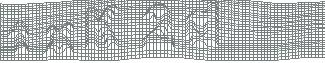2: (139, 3, 177, 52)
K: (84, 5, 121, 53)
d: (183, 1, 221, 48)
t: (7, 19, 31, 55)
x: (42, 22, 75, 57)
